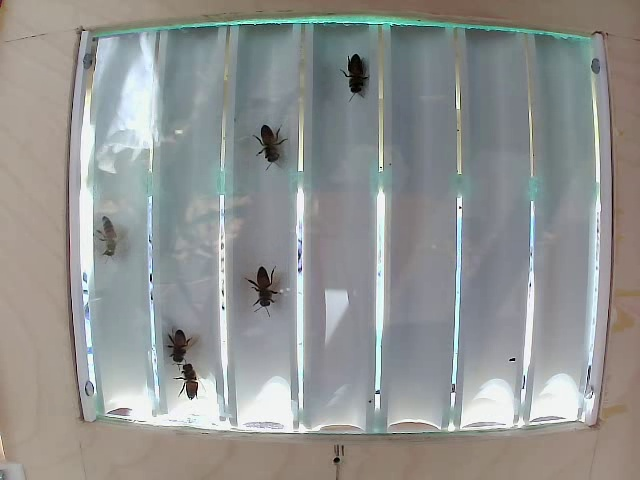bee: (237, 253, 292, 311), (94, 209, 133, 259), (262, 115, 299, 160), (342, 53, 378, 95), (162, 324, 194, 368), (178, 370, 209, 397)
